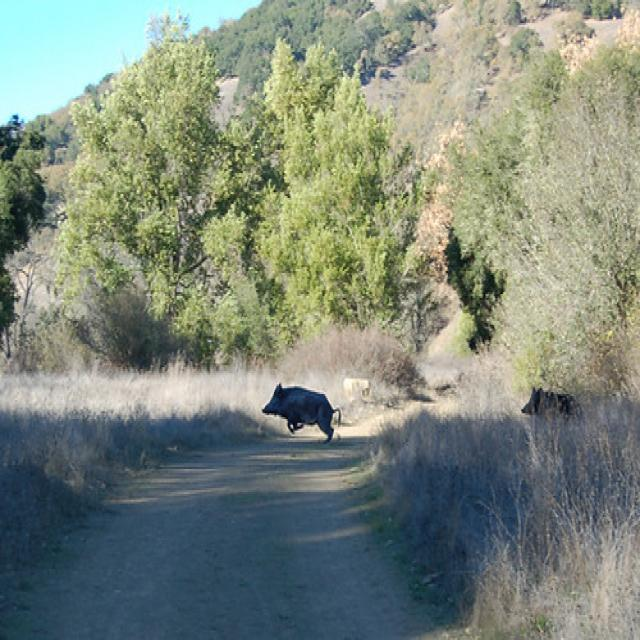boar: (250, 355, 358, 477)
